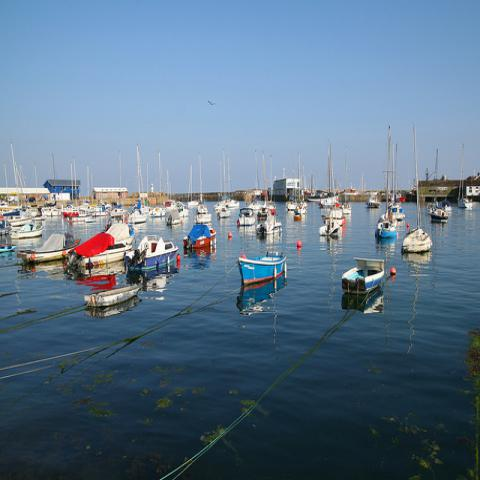car: (26, 197, 36, 202)
